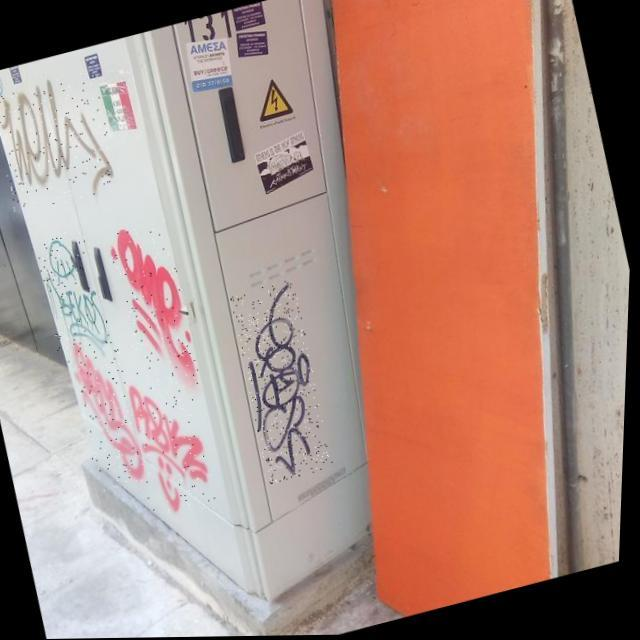-: (225, 279, 342, 485), (103, 218, 209, 398), (0, 70, 124, 217), (122, 368, 224, 516), (65, 330, 154, 492), (31, 226, 120, 366)
